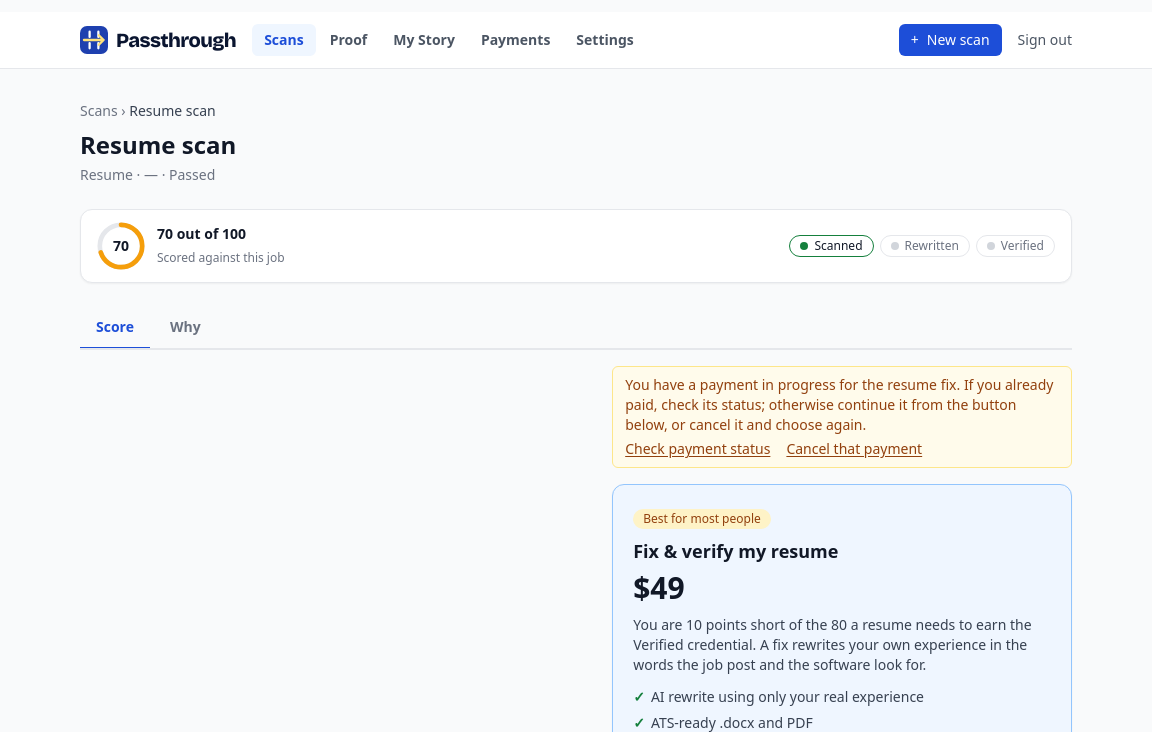
Test: ScanResult — open checkout notice (G3) and already-paid (B2) › a cancel the server turns into "already paid" shows its message and waits for delivery instead of an error dead-end
Click the button "Cancel that payment". click: (854, 449)
box: [786,439,922,459]
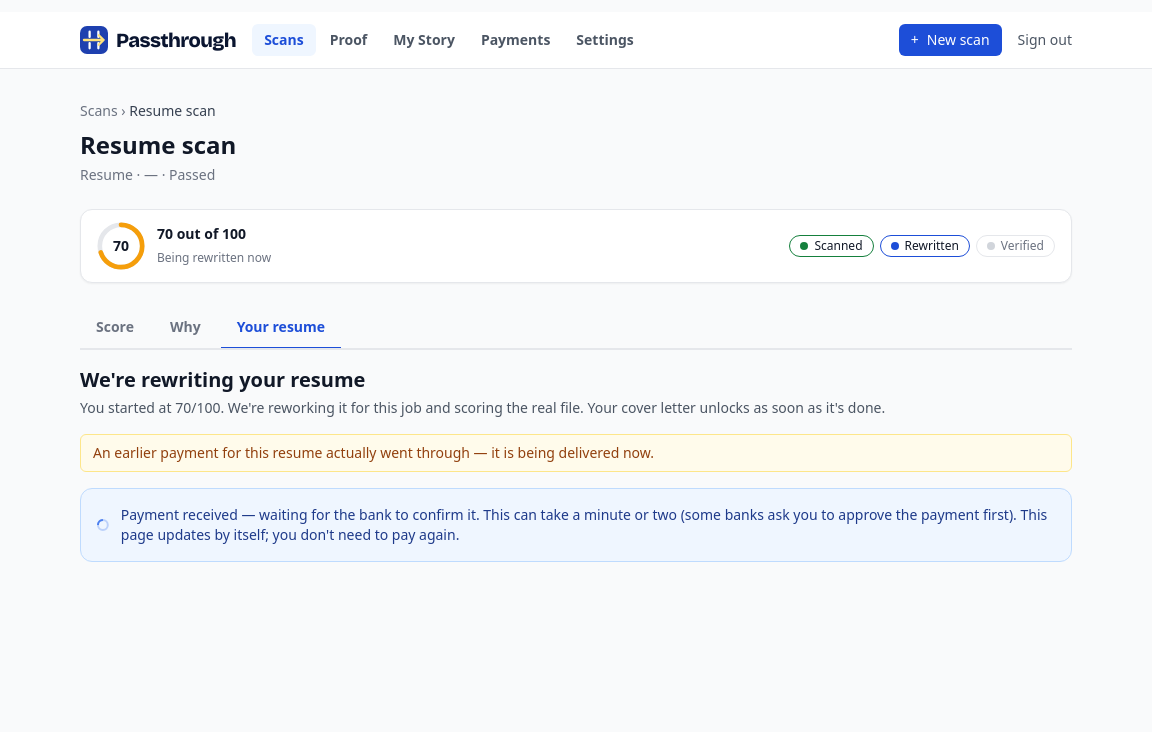
Expected: the element with test id "rewriting-focus" is shown, [80,366,1072,562]
Expected: the text "actually went through" is shown, [93,443,654,462]
Expected: the text "payment in progress" is gone
